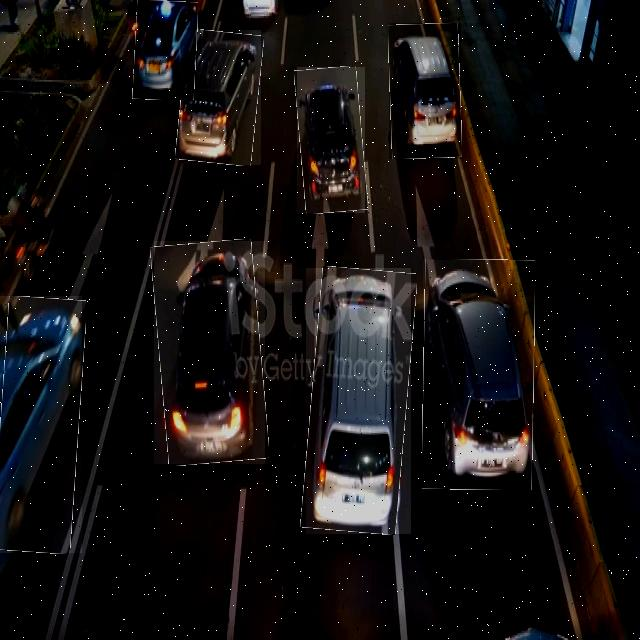Car: (306, 268, 411, 534), (423, 260, 535, 490), (154, 241, 265, 464), (0, 296, 82, 553), (179, 30, 261, 165), (297, 67, 365, 213), (389, 23, 461, 159), (133, 0, 197, 99)
